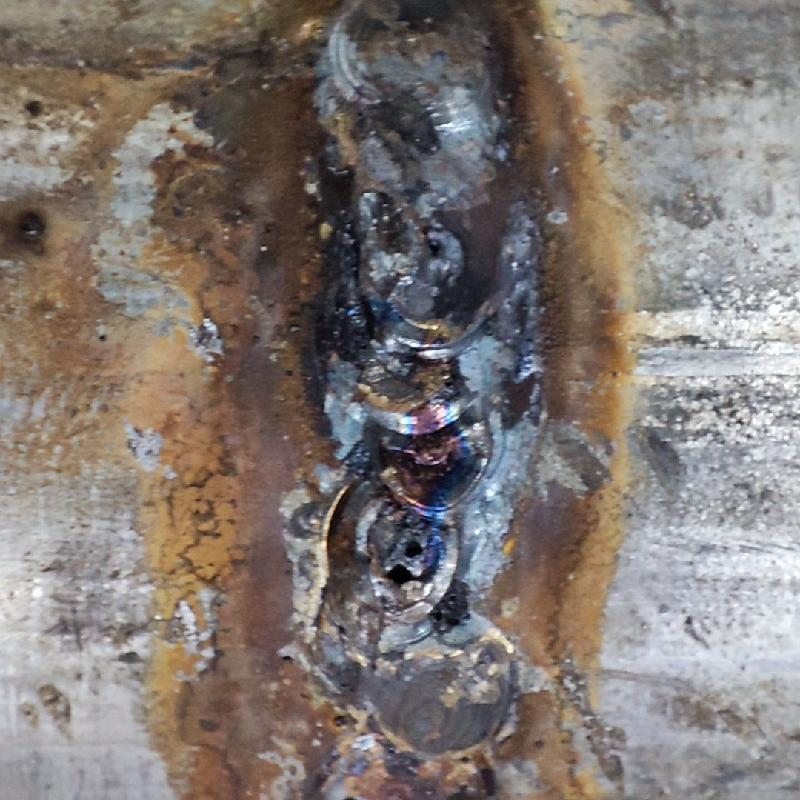Surface_pores: (365, 515, 435, 587)
crater: (315, 213, 511, 795)
wrong_size: (316, 0, 513, 211)
